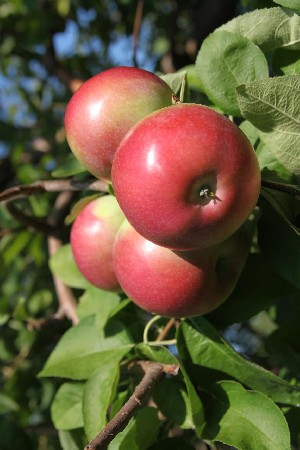apple: (111, 100, 263, 254), (68, 194, 243, 318), (60, 64, 181, 183)
